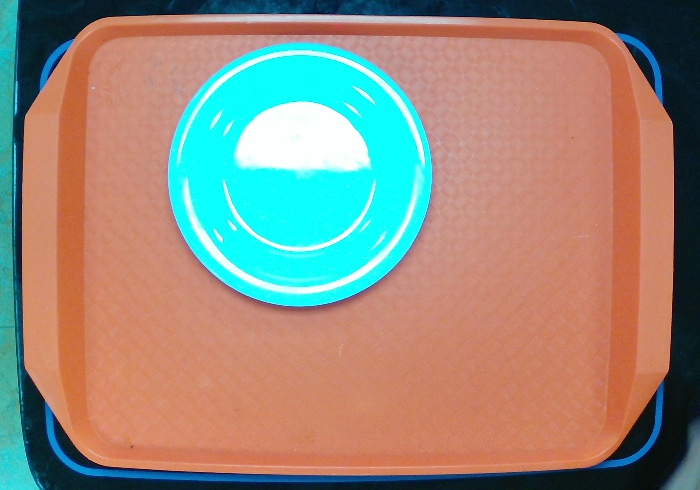RJxy-Yuan_Pan: (151, 27, 438, 317)
